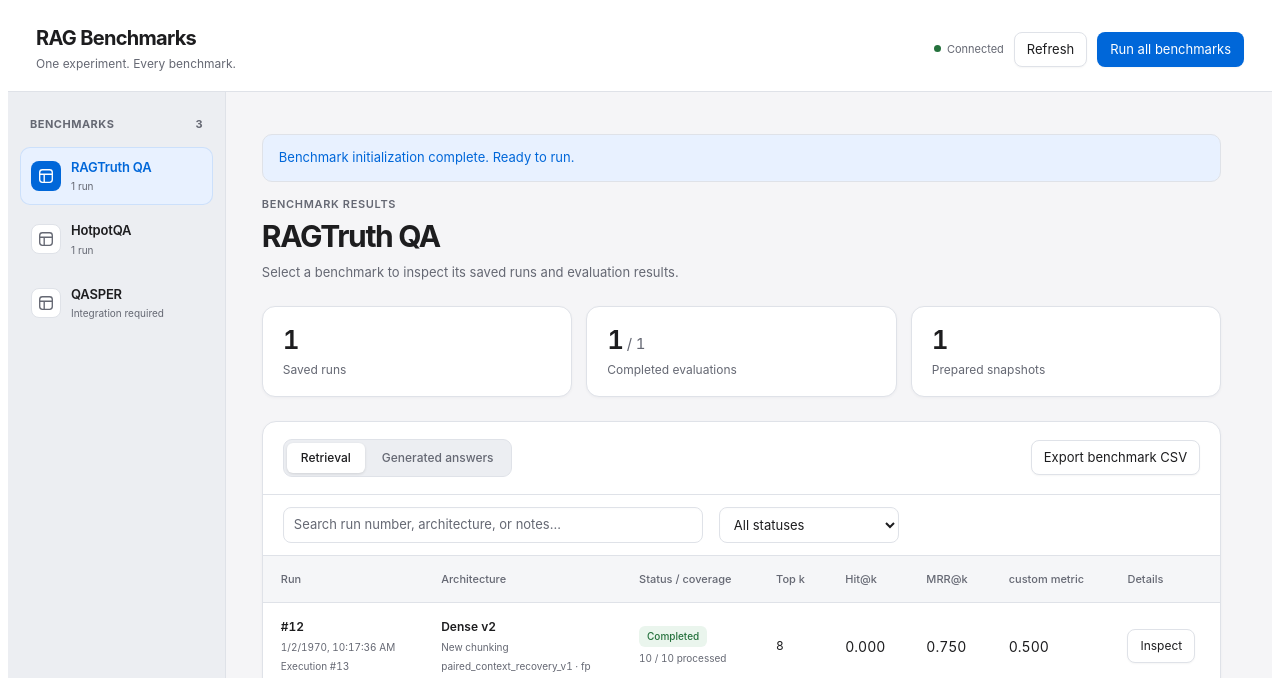
Test case: Benchmark workspace › retains saved results when refresh fails and never retries an uncertain suite write
Expected: the text "Connected" is shown, [934,41,1004,58]
Click the button "Run all benchmarks": (1171, 50) [1097,32,1244,67]
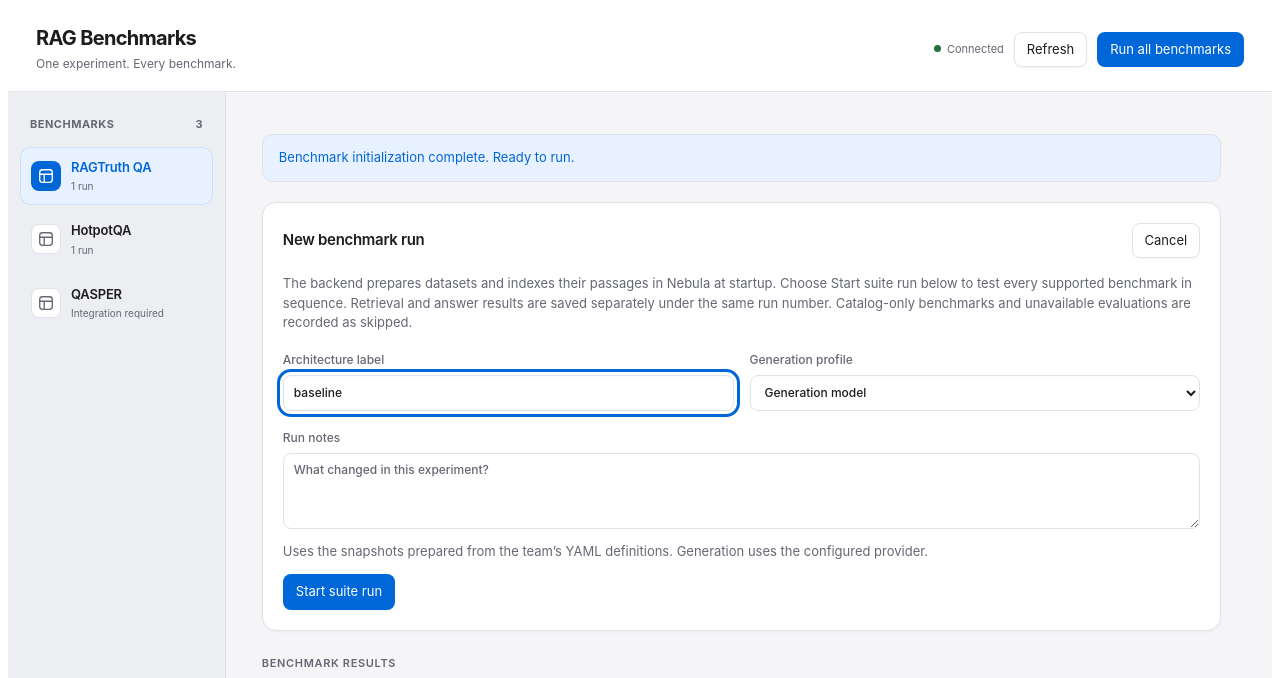
Click the button "Start suite run": (339, 592) [283,574,395,610]
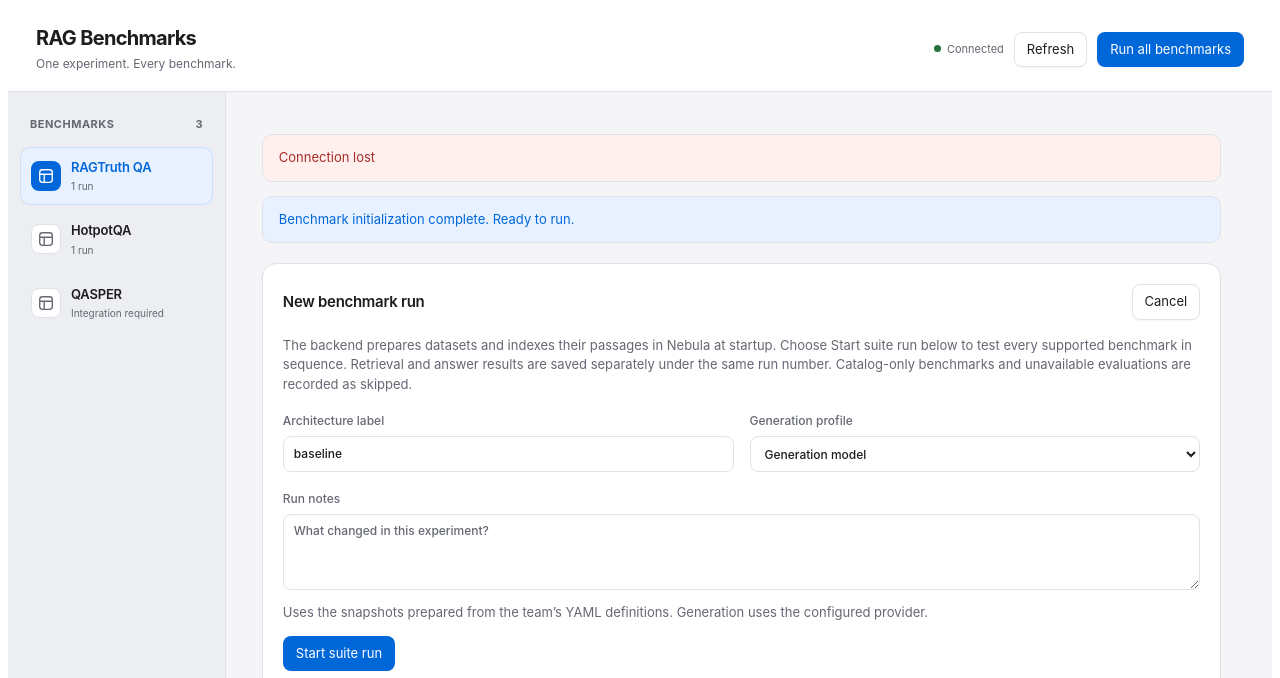
Expected: the message "Connection lost" is shown, [262,134,1221,182]
Click the button "Refresh": (1051, 50) [1014,32,1087,67]
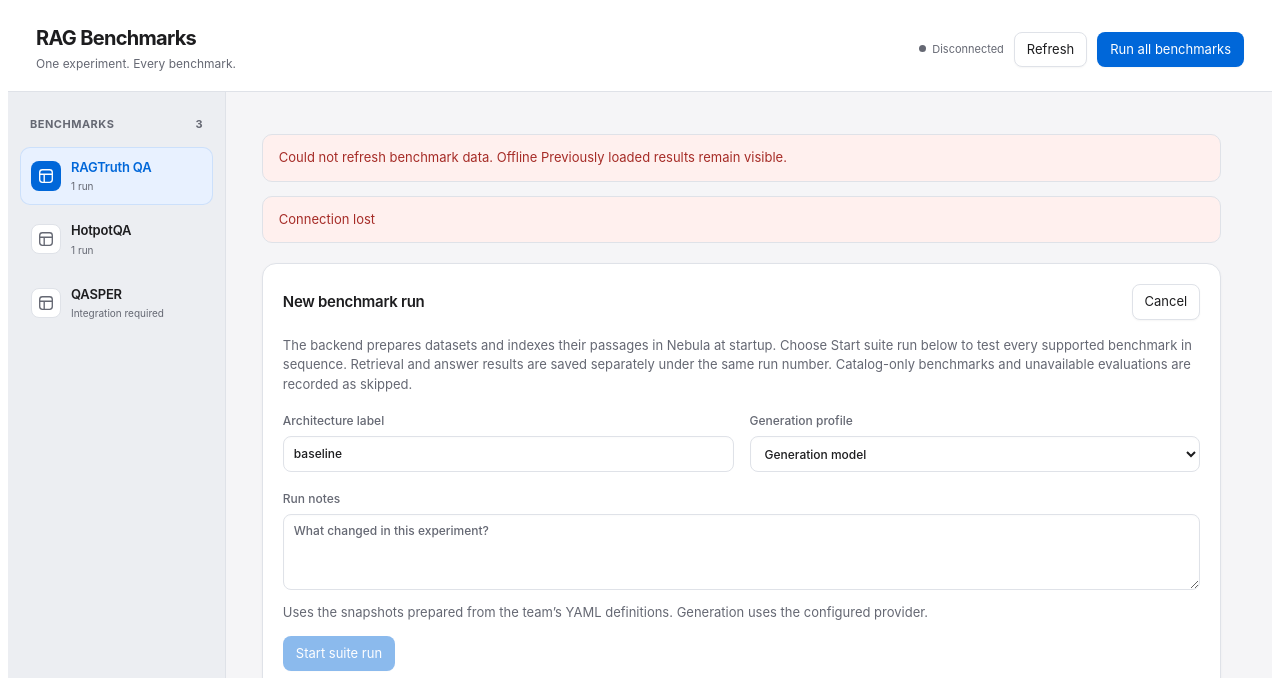
Expected: the text "Previously loaded results remain visible" is shown, [537,149,787,165]
Expected: the button "Start suite run" is disabled, [283,636,395,671]
